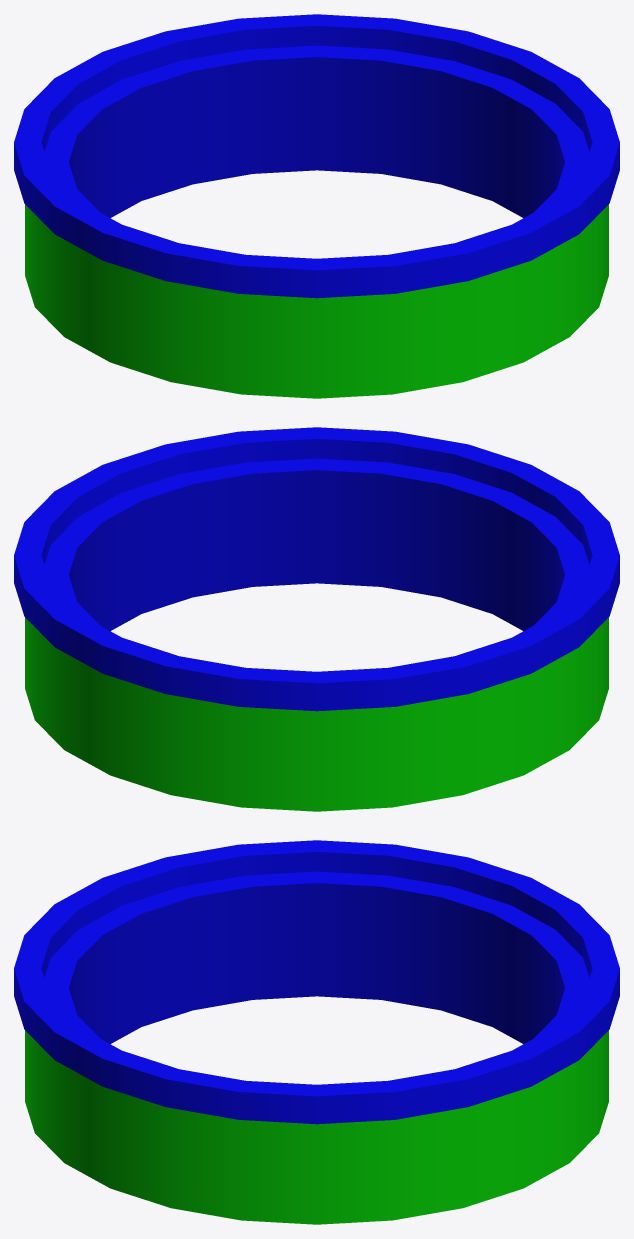
Rendered from Tube_Top.FBX.
3 renders of one model, top to bottom at view 1: azimuth 30°, elevation 25°; view 2: azimuth 150°, elevation 25°; view 3: azimuth 270°, elevation 25°, orthographic.
Parts seen in each view (by area): view 1: Tube_Top002; view 2: Tube_Top002; view 3: Tube_Top002.
Boxes of the visible parts, box(x1,y1,x2,y2) form: Tube_Top002: box(14, 14, 619, 398); Tube_Top002: box(14, 427, 619, 811); Tube_Top002: box(14, 840, 619, 1224).
Bounding box in the file's own units: 4.46 × 1.08 × 4.46.
